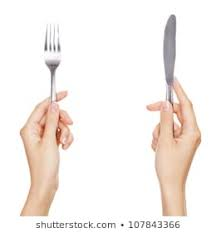knife: (161, 10, 183, 158)
